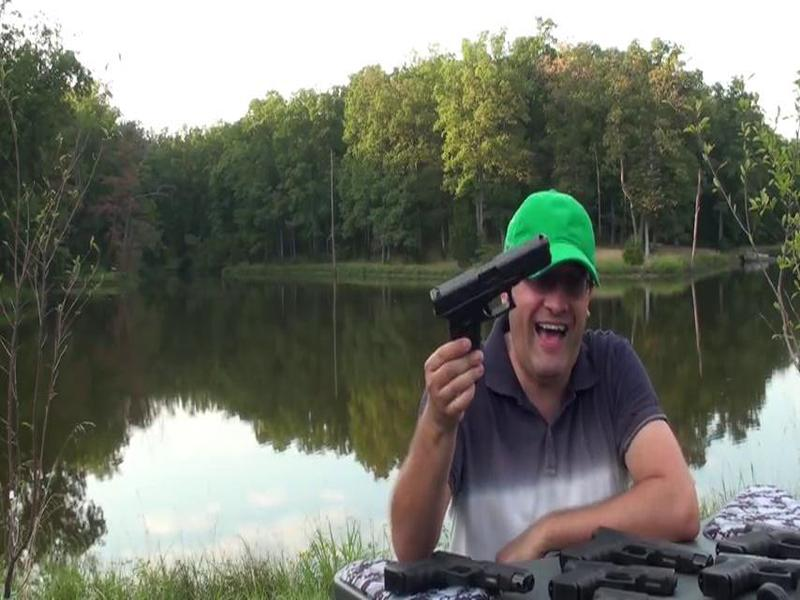Pistola: (416, 224, 554, 360), (379, 542, 532, 600), (555, 551, 686, 600)
